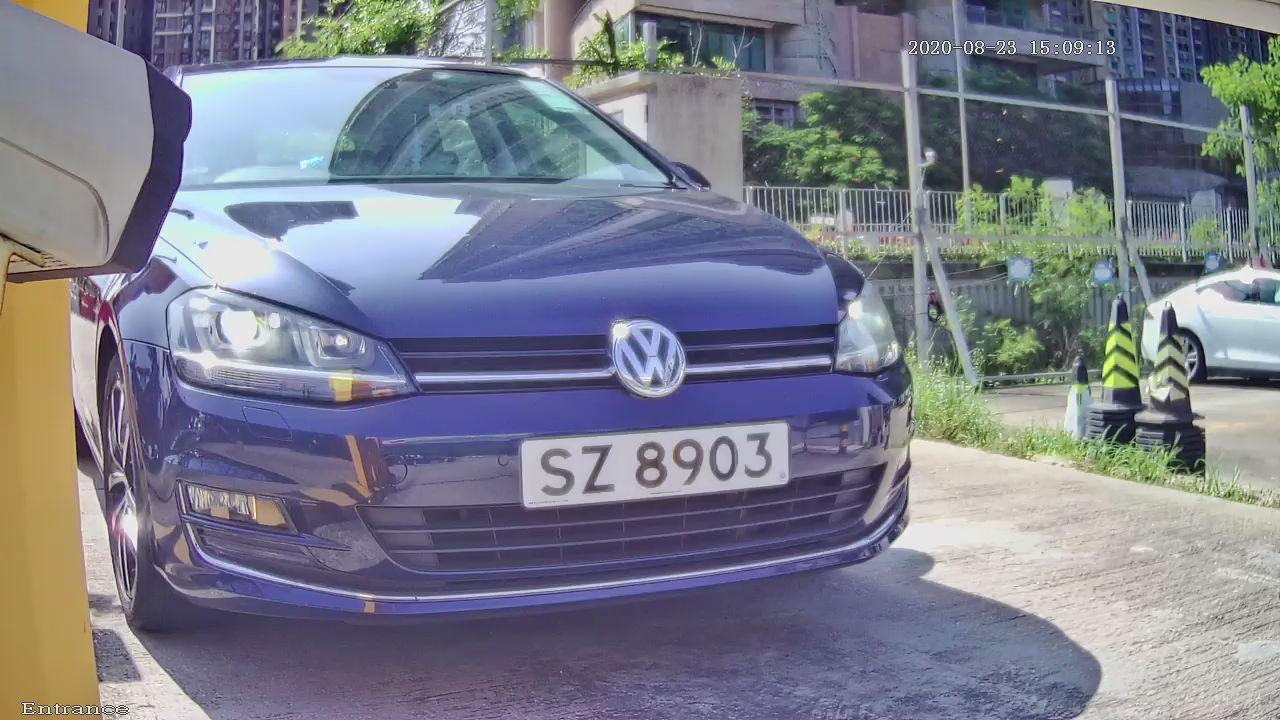Car: (12, 13, 995, 685)
License Plate: (475, 385, 868, 548)
